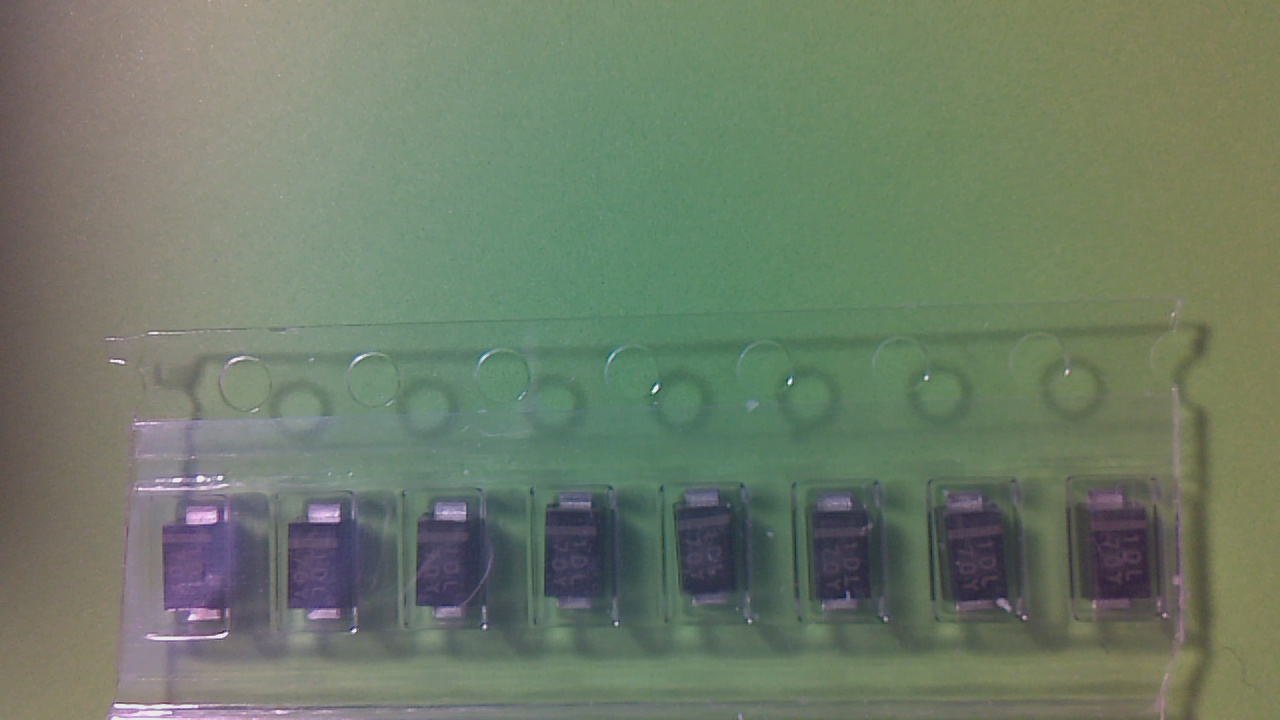Diode: (1073, 489, 1146, 619), (939, 490, 1002, 621), (288, 507, 356, 625), (812, 494, 873, 618), (164, 512, 231, 624), (414, 505, 477, 623), (679, 493, 738, 615), (549, 498, 604, 613)
